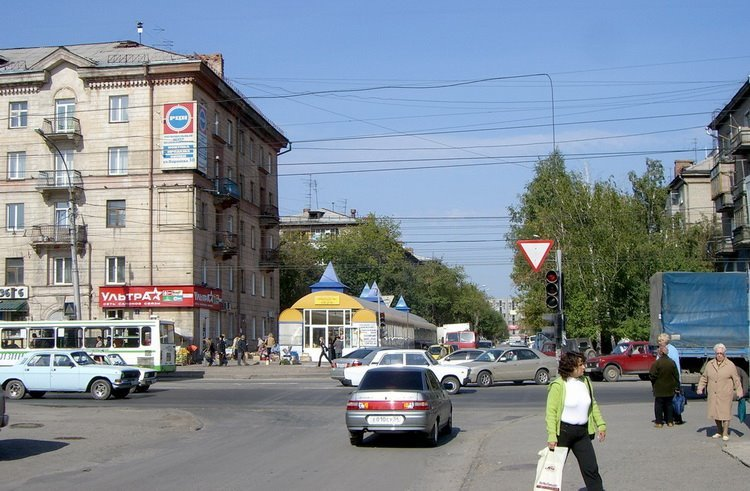sign: (515, 237, 553, 271)
